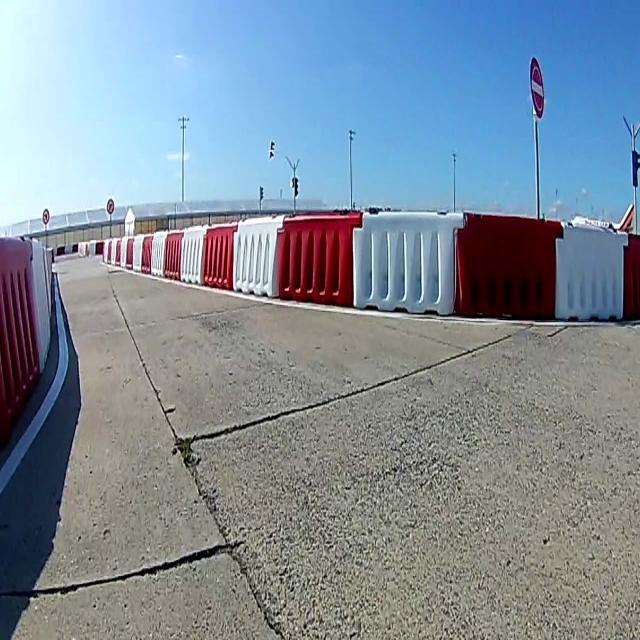girisyok: (529, 52, 545, 120)
